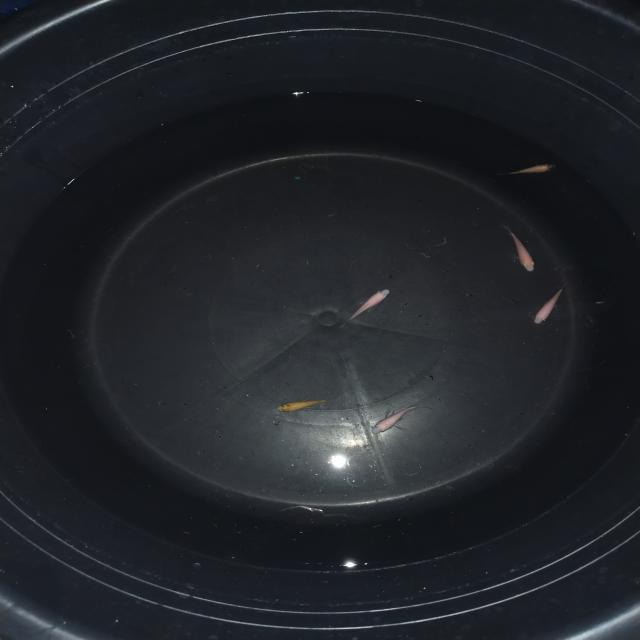nila: (501, 221, 544, 274), (342, 286, 392, 330), (532, 280, 568, 330), (369, 402, 421, 436), (278, 396, 329, 414), (508, 162, 561, 177)
